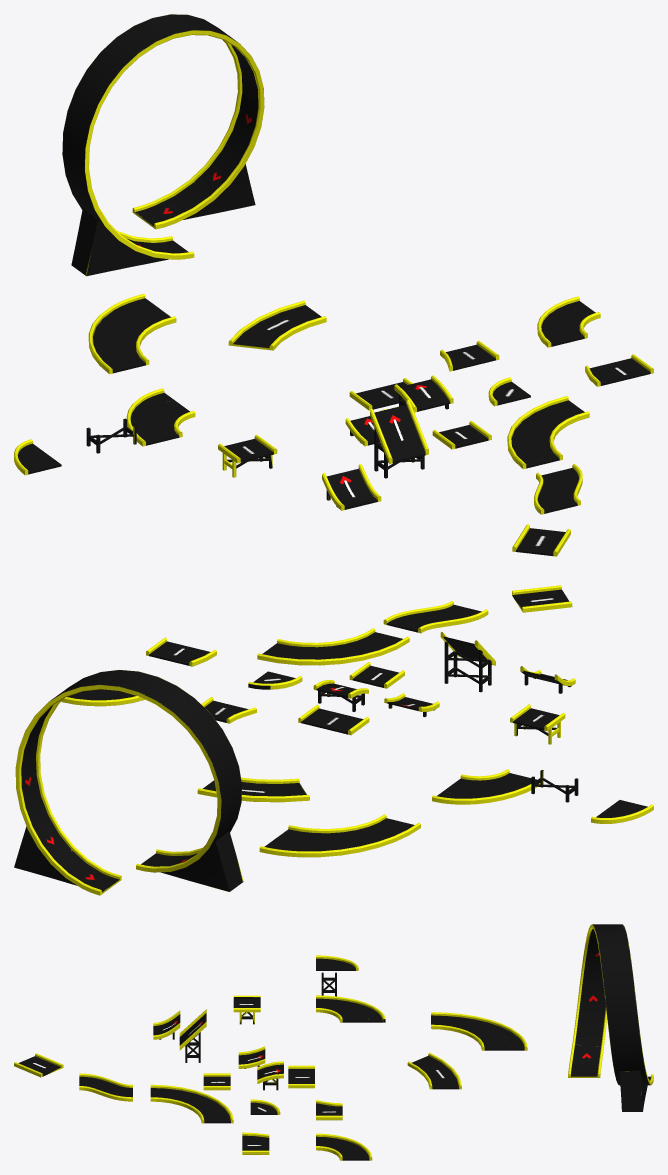
The model's file is With Boundary.fbx.
3 renders of one model, top to bottom at view 1: azimuth 30°, elevation 25°; view 2: azimuth 150°, elevation 25°; view 3: azimuth 270°, elevation 25°, orthographic. The views are drawn at different scales.
Parts seen in each view (by area): view 1: loop_object4, runoff_curve3_object5, curve3_object4, jump2_object5, runoff_curve2_object5, angle_transition_object1, curve2_object4, curve4_object4, jump1_object8, ramp2_object5, ramp3_object5, angled_object4 (+5 smaller); view 2: loop_object4, runoff_curve3_object5, curve3_object4, runoff_curve2_object5, curve4_object4, angle_transition_object1, jump2_object5, angled_object4, runoff_default_object5, ramp3_object5, runoff_transition1_object5, curve2_object4 (+8 smaller); view 3: loop_object4, runoff_curve3_object5, curve3_object4, runoff_curve2_object5, angle_transition_object1, curve2_object4, curve4_object4, jump2_object5, angled_object4, runoff_default_object5, ramp3_object5, runoff_transition1_object5 (+7 smaller).
Boxes of the visible parts, bbox=[...] form: loop_object4: bbox=[62, 14, 264, 276]; runoff_curve3_object5: bbox=[88, 294, 176, 374]; curve3_object4: bbox=[507, 396, 589, 469]; jump2_object5: bbox=[370, 400, 428, 478]; runoff_curve2_object5: bbox=[126, 388, 195, 446]; angle_transition_object1: bbox=[228, 300, 326, 350]; curve2_object4: bbox=[537, 296, 600, 347]; curve4_object4: bbox=[534, 464, 582, 514]; jump1_object8: bbox=[322, 464, 381, 510]; ramp2_object5: bbox=[394, 375, 453, 412]; ramp3_object5: bbox=[218, 435, 277, 477]; angled_object4: bbox=[512, 524, 570, 556]; loop_object4: bbox=[14, 670, 243, 895]; runoff_curve3_object5: bbox=[259, 814, 420, 857]; curve3_object4: bbox=[257, 628, 409, 665]; runoff_curve2_object5: bbox=[432, 769, 540, 804]; curve4_object4: bbox=[383, 601, 488, 633]; angle_transition_object1: bbox=[197, 777, 309, 802]; jump2_object5: bbox=[440, 632, 495, 692]; angled_object4: bbox=[512, 585, 572, 612]; runoff_default_object5: bbox=[298, 704, 369, 735]; ramp3_object5: bbox=[510, 704, 565, 744]; runoff_transition1_object5: bbox=[146, 637, 216, 666]; curve2_object4: bbox=[61, 689, 144, 706]; loop_object4: bbox=[568, 924, 653, 1111]; runoff_curve3_object5: bbox=[431, 1012, 527, 1050]; curve3_object4: bbox=[150, 1084, 233, 1123]; runoff_curve2_object5: bbox=[316, 995, 385, 1022]; angle_transition_object1: bbox=[407, 1052, 461, 1089]; curve2_object4: bbox=[316, 1133, 372, 1160]; curve4_object4: bbox=[79, 1073, 132, 1101]; jump2_object5: bbox=[179, 1009, 206, 1062]; angled_object4: bbox=[14, 1053, 63, 1077]; runoff_default_object5: bbox=[288, 1065, 314, 1088]; ramp3_object5: bbox=[233, 995, 260, 1024]; runoff_transition1_object5: bbox=[242, 1132, 269, 1154].
Bounding box in the file's own units: 890149 × 300032 × 1192196.
